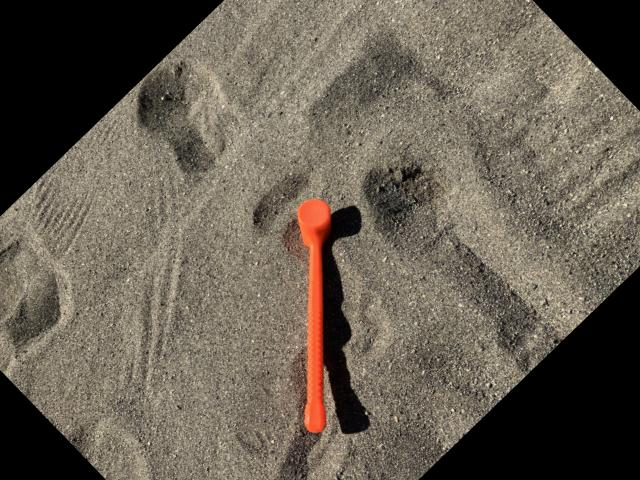hammer: (190, 190, 440, 438)
